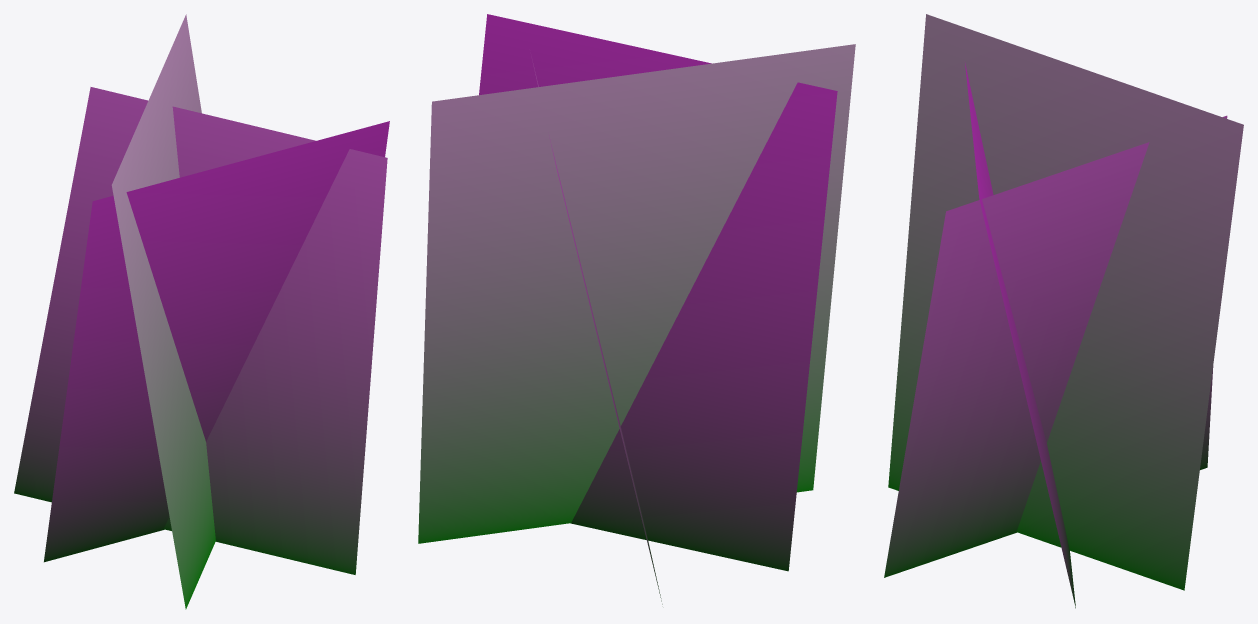
The model's file is reed_01_a.dae.
3 views of the same model, side by side, from view 1: azimuth 30°, elevation 25°; view 2: azimuth 150°, elevation 25°; view 3: azimuth 270°, elevation 25° (orthographic). The views are drawn at different scales.
Visible parts, largest first — view 1: reed_sf8; view 2: reed_sf8; view 3: reed_sf8.
Boxes of the visible parts, box(x1,y1,x2,y2) form: reed_sf8: box(14, 14, 389, 609); reed_sf8: box(418, 14, 855, 604); reed_sf8: box(884, 14, 1243, 608).
Bounding box in the file's own units: 1.03 × 0.9989 × 1.39.
